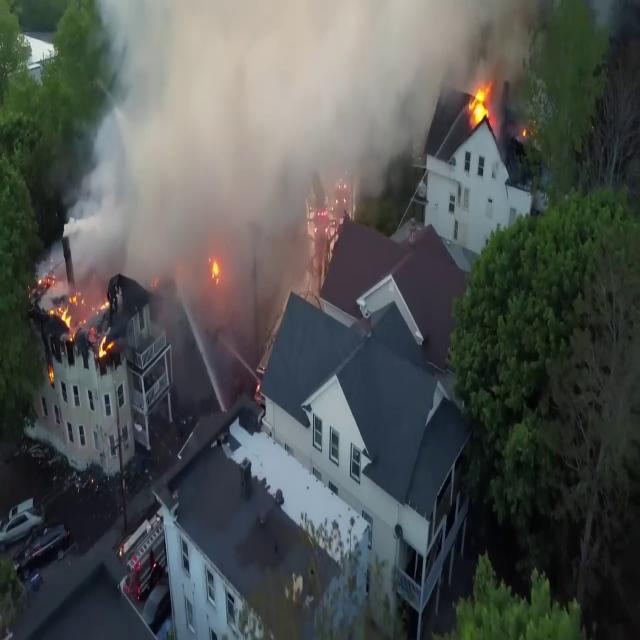Fire: (464, 72, 498, 133)
Smoke: (45, 0, 388, 300)
